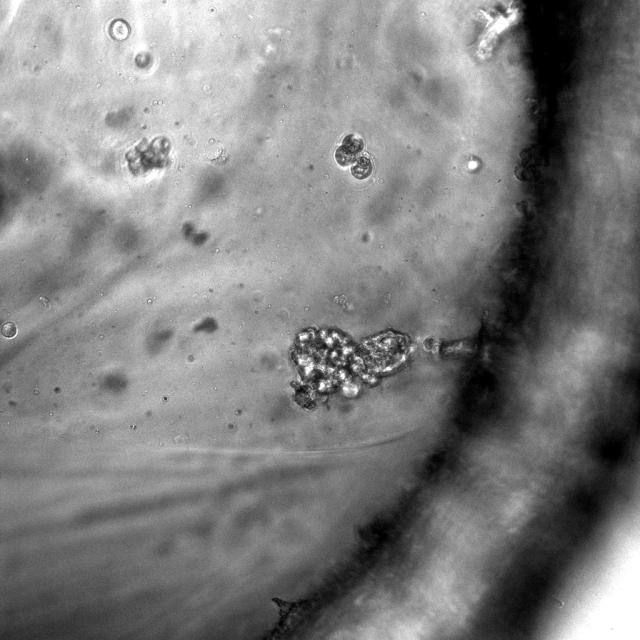organoid: (289, 326, 414, 410), (334, 134, 374, 179), (125, 136, 171, 173), (422, 336, 477, 358), (182, 220, 208, 245), (109, 18, 131, 41), (194, 317, 218, 333), (134, 51, 152, 68), (0, 321, 17, 339)
